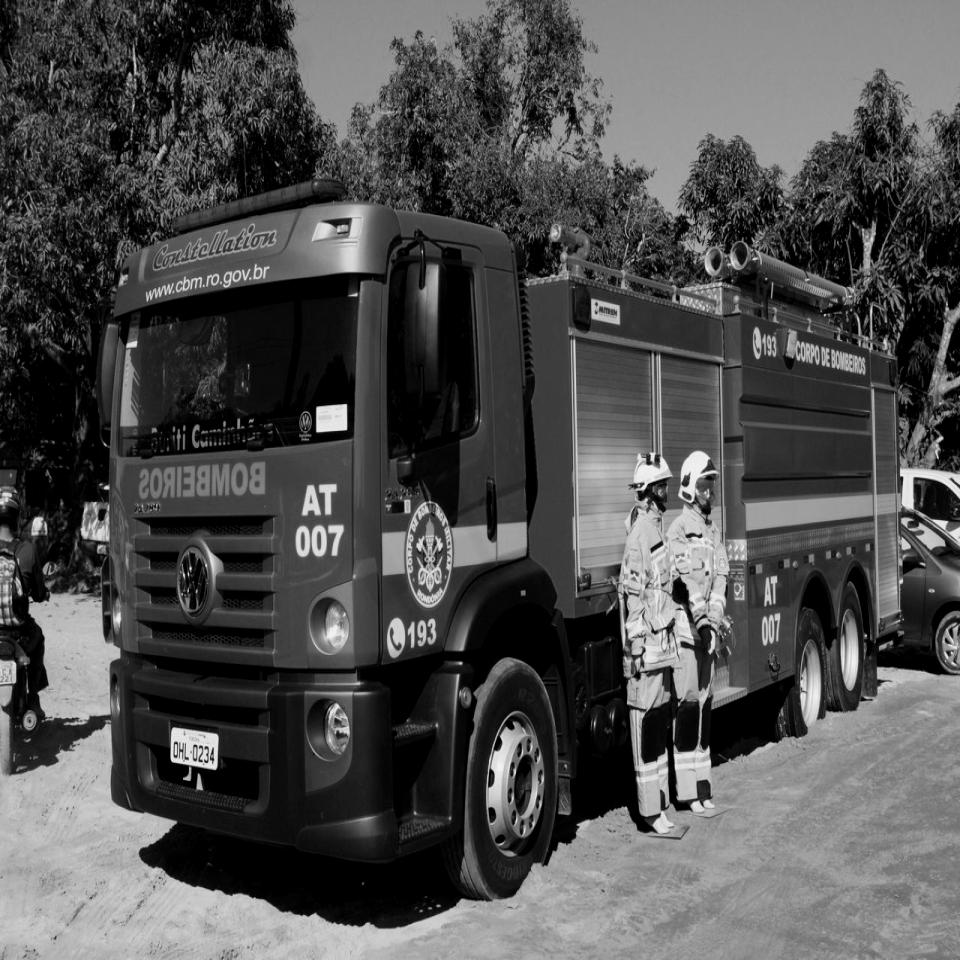bombeiro: (94, 175, 908, 903)
